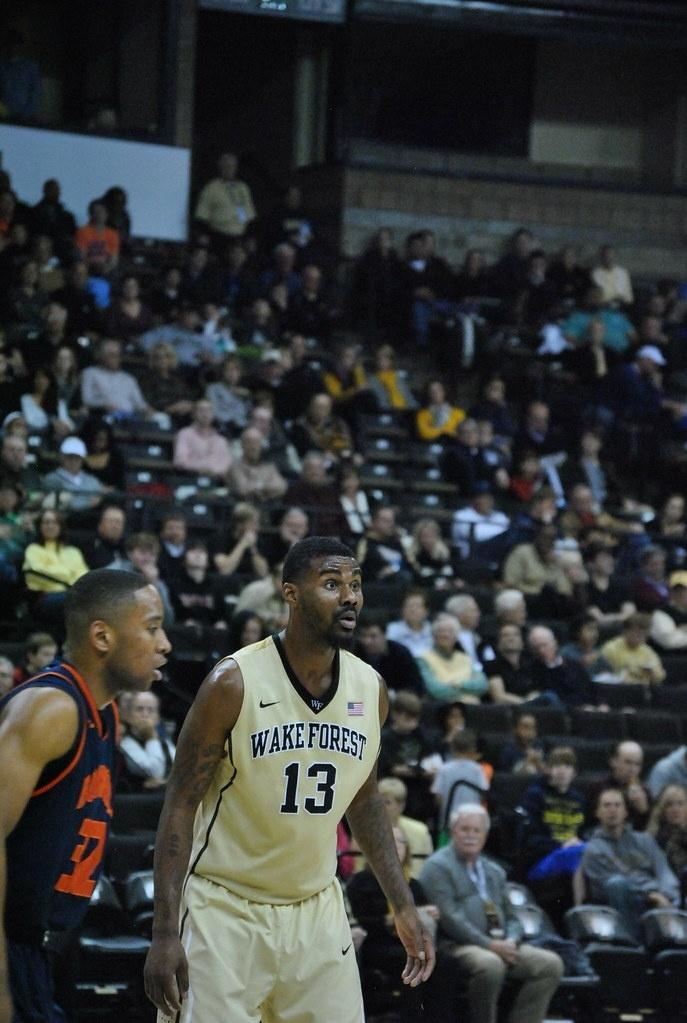basketball-player: (142, 534, 438, 1021), (0, 532, 214, 1023)
